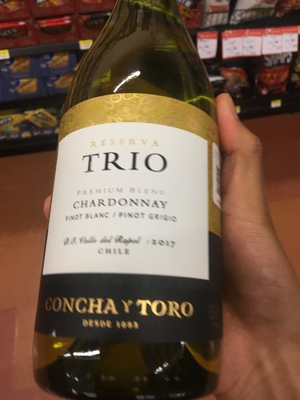trio chardonnay: (35, 17, 229, 398)
